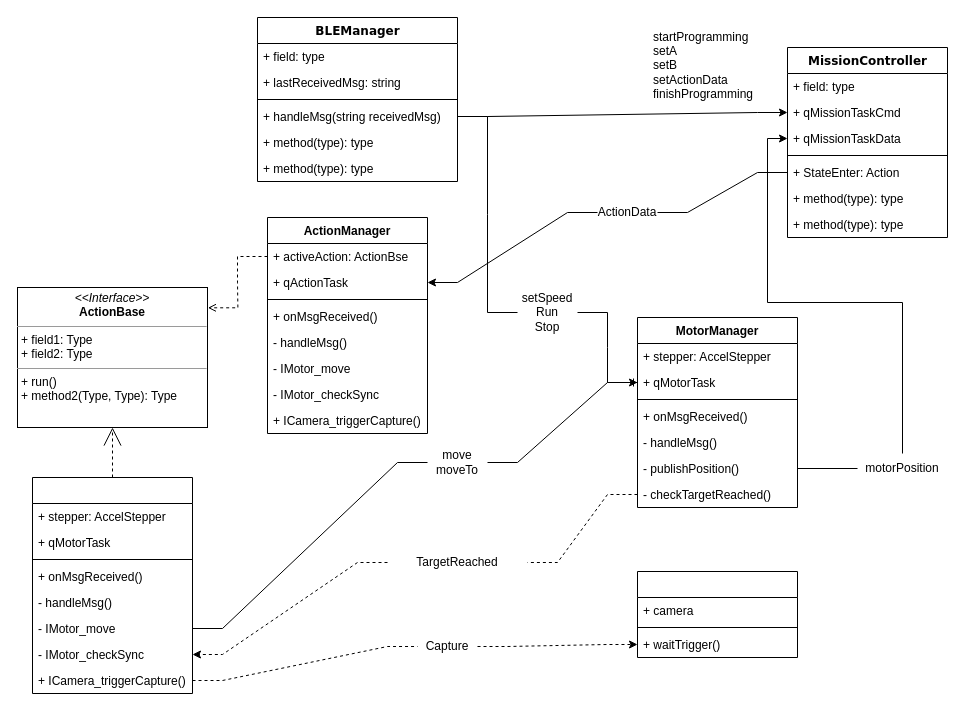
The diagram is 965 pixels wide and 714 high, and some of its shapes have lost their labels. Each missing label, with the box of its shape:
CaptureManager: (636, 570, 798, 658)
PhotoTimelapse: (32, 476, 192, 694)
